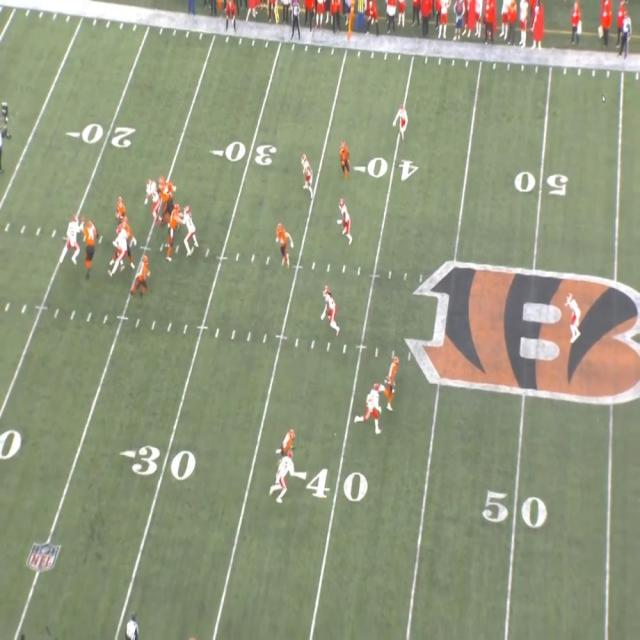db: (568, 295, 587, 343), (277, 451, 293, 505), (364, 384, 380, 431), (300, 156, 314, 193), (398, 104, 408, 139)
lb: (322, 285, 338, 327), (338, 197, 352, 240)
qb: (115, 194, 126, 226)
skill: (386, 352, 399, 412), (276, 222, 292, 268), (136, 256, 149, 300), (338, 141, 348, 175), (282, 431, 295, 453)
